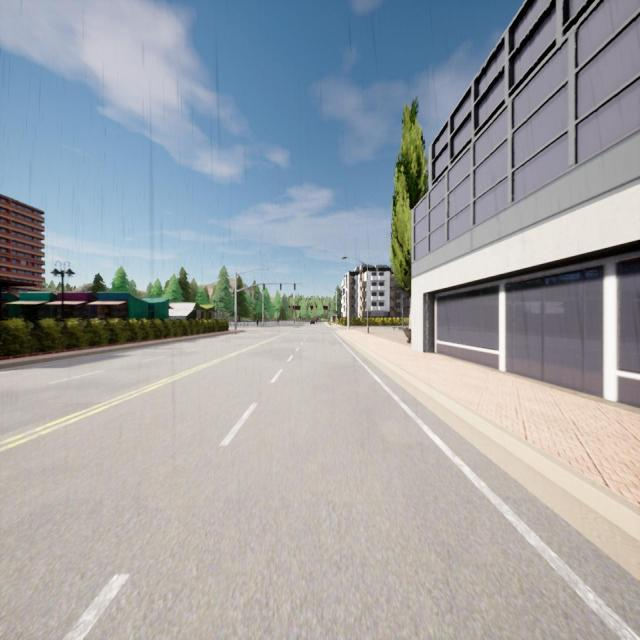Pedestrian: (256, 319, 259, 327)
Vehicle: (310, 320, 315, 325)
traffic_light: (280, 283, 282, 290), (263, 284, 265, 290), (294, 284, 296, 290), (250, 292, 252, 296), (254, 294, 255, 299), (300, 298, 302, 300), (309, 298, 310, 301), (319, 298, 319, 300)
